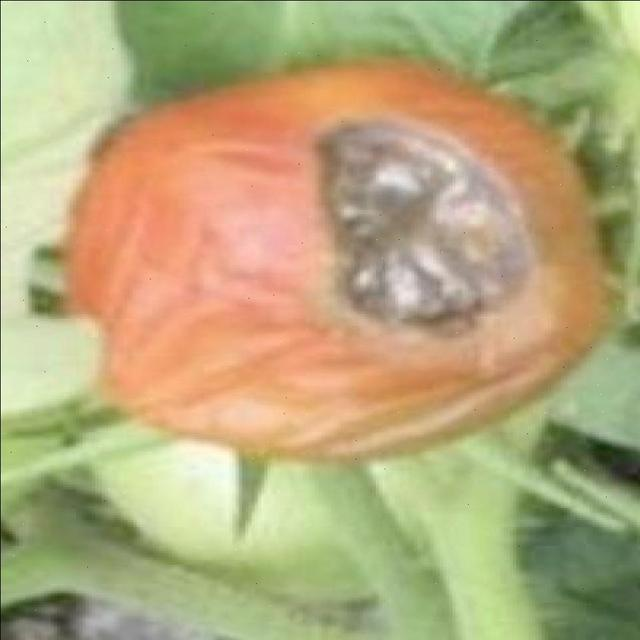Blossom End Rot Fruit: (199, 70, 357, 231)
